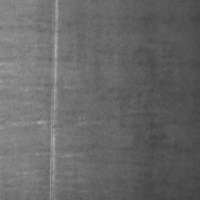scratches: (47, 0, 61, 199)
